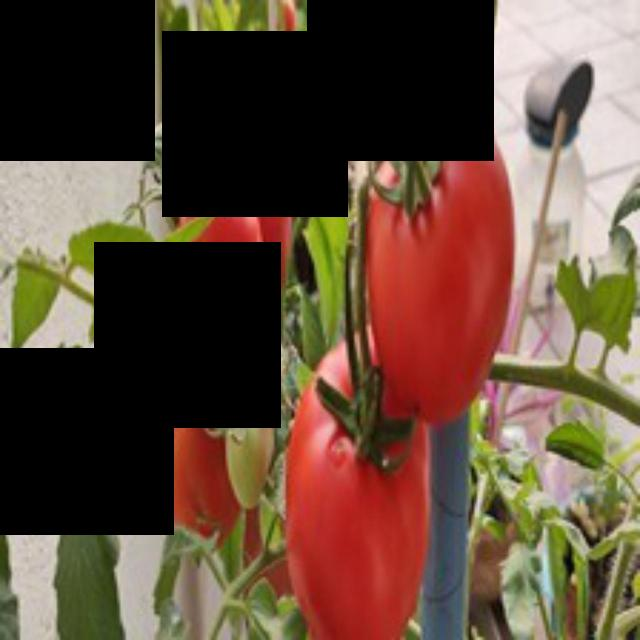tomato: (350, 79, 535, 431), (280, 326, 428, 636)
